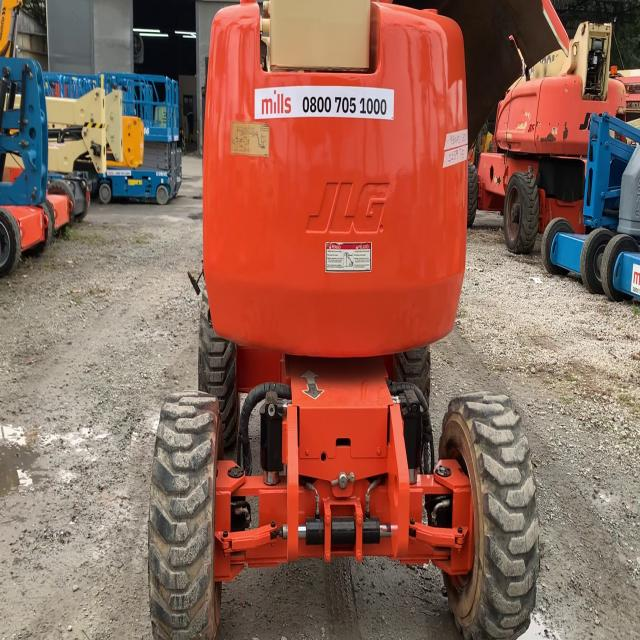Adesivo Longo: (254, 84, 395, 122)
